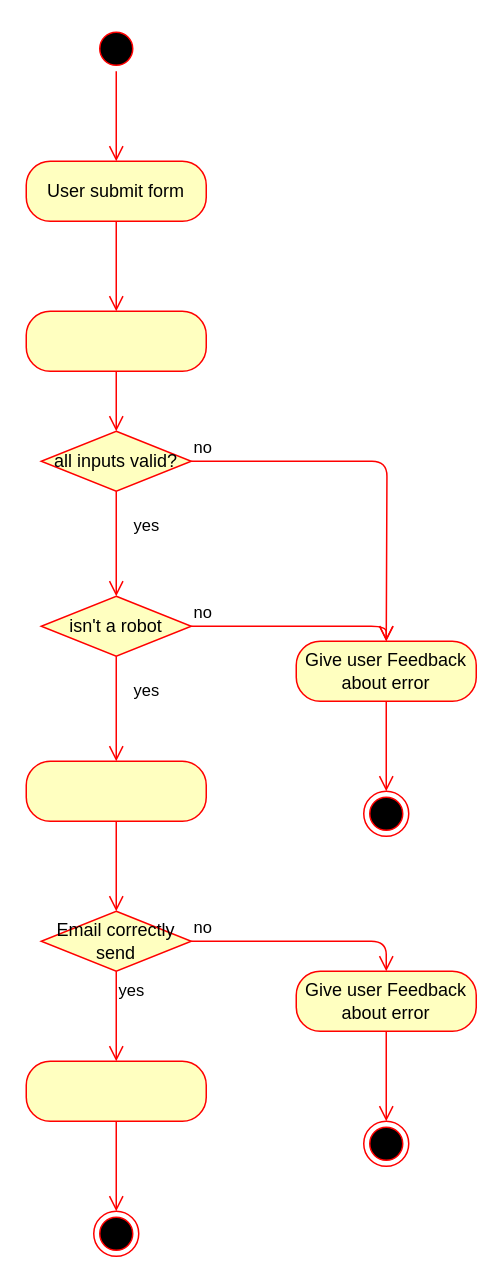
Image size: 503x1283. Some labels were removed from this diagram. Each missing label, with the box of its shape:
Give user Feedback: (25, 1060, 206, 1121)
Sanatize data: (25, 310, 206, 371)
Send email: (25, 760, 206, 821)
